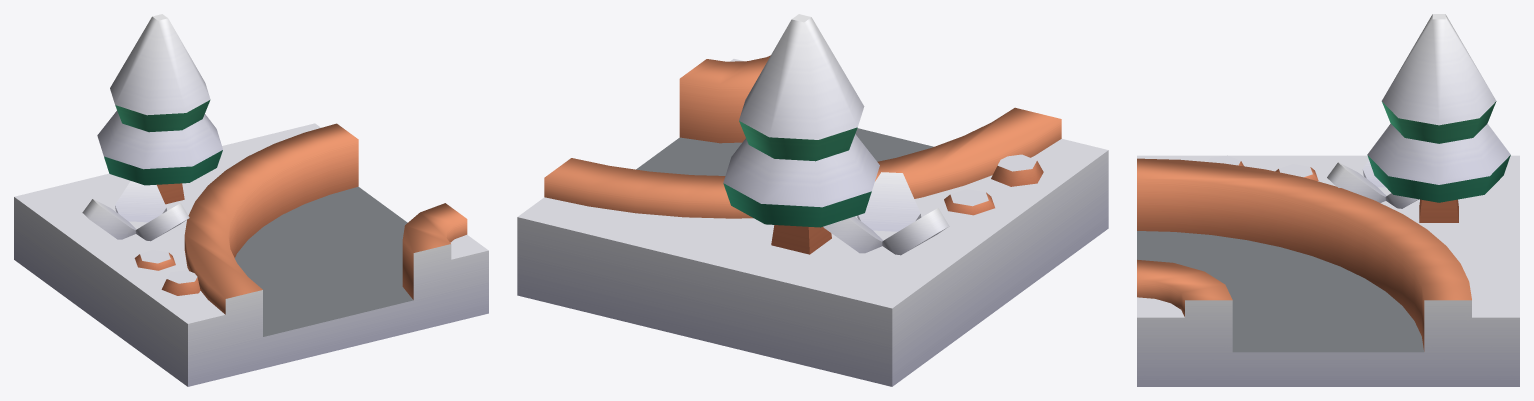
Rendered from snow-tile-river-corner.fbx.
3 views of the same model, side by side, from view 1: azimuth 30°, elevation 25°; view 2: azimuth 150°, elevation 25°; view 3: azimuth 270°, elevation 25° (orthographic). The views are drawn at different scales.
Visible parts, largest first — view 1: snow-tile-river-corner; view 2: snow-tile-river-corner; view 3: snow-tile-river-corner.
Boxes of the visible parts, x1,y1,x2,y2 form: snow-tile-river-corner: (14, 14, 488, 386); snow-tile-river-corner: (517, 14, 1108, 386); snow-tile-river-corner: (1137, 14, 1519, 386).
Bounding box in the file's own units: 100 × 77 × 100.
